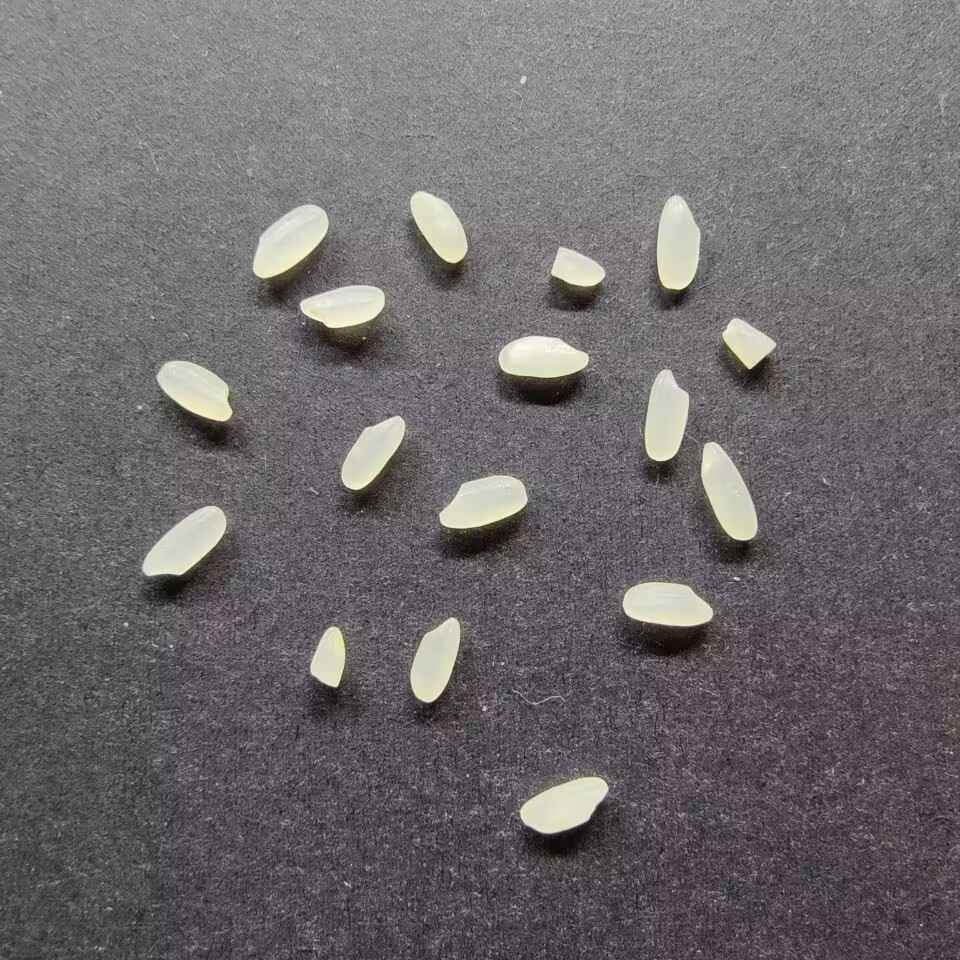broken: (720, 315, 778, 370), (548, 244, 608, 287), (307, 625, 346, 688)
rice: (141, 503, 230, 579), (250, 202, 330, 280), (698, 441, 759, 542), (339, 413, 407, 494), (517, 775, 609, 833), (436, 473, 528, 530), (155, 360, 234, 423), (408, 613, 460, 703), (408, 190, 468, 266), (654, 194, 701, 290), (621, 580, 715, 627), (643, 368, 690, 461), (497, 333, 590, 379), (298, 281, 384, 329)
